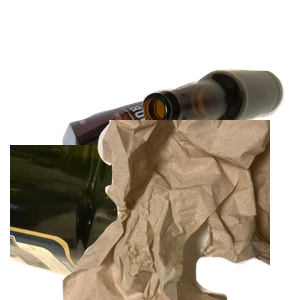glass: (140, 67, 300, 188)
metal: (60, 79, 300, 259)
plastic: (10, 145, 213, 300)
trash: (60, 120, 300, 300)
